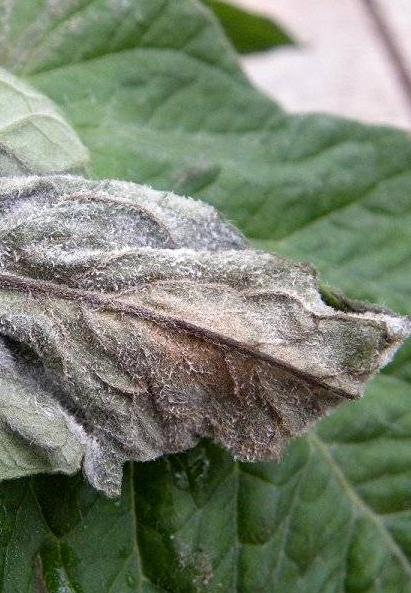Tomato leaf late blight: (0, 0, 411, 556)
